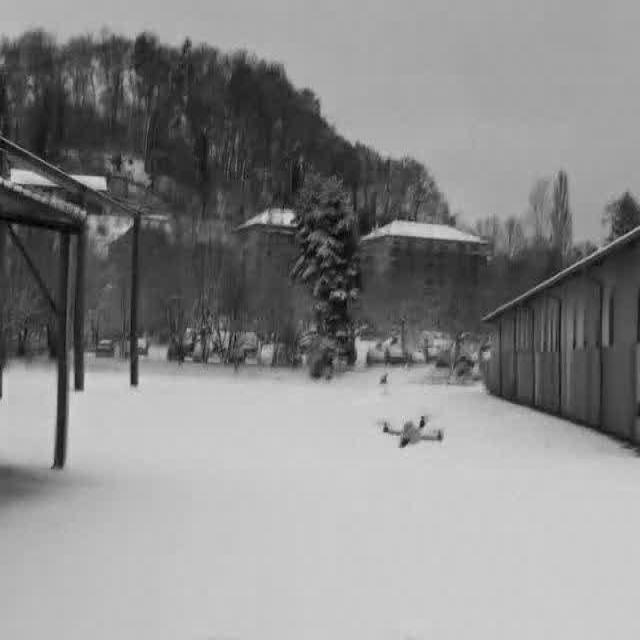drone: (374, 409, 445, 452)
